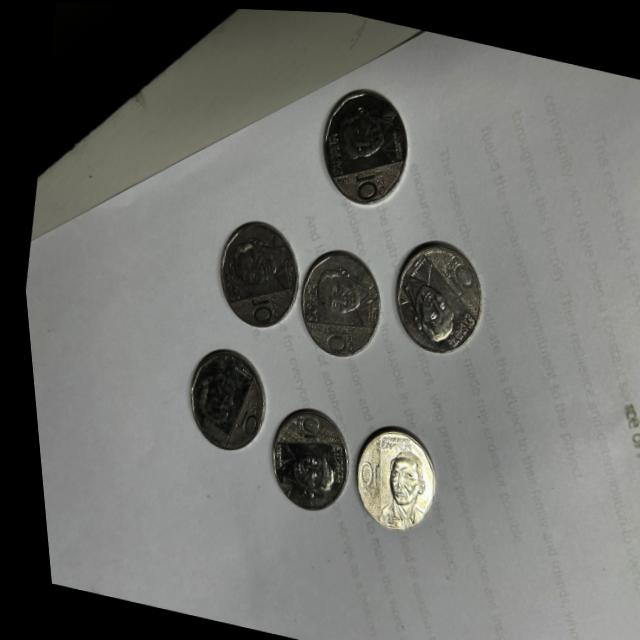10_New_Front: (429, 247, 476, 294), (345, 160, 392, 203), (309, 313, 354, 356), (220, 392, 257, 443), (238, 284, 281, 325), (284, 407, 329, 445), (339, 454, 376, 496)
